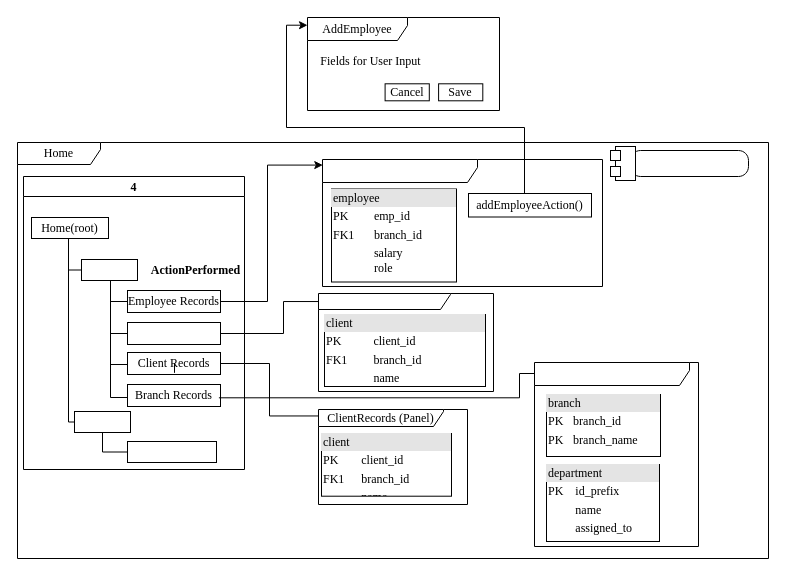
The diagram is 786 pixels wide and 576 high, and some of its shapes have lost their labels. The shapes that lost their labels are listed below. From the top down, each one's box as (x1, y1, x2, y2) in pixels, then its label:
(610, 150, 748, 176): Search
(322, 158, 602, 286): EmployeeRecords (Panel)
(80, 258, 138, 280): Records
(126, 322, 220, 344): Supplier Records
(318, 292, 494, 392): SupplierRecords (Panel)
(74, 410, 130, 432): Settings
(126, 440, 216, 462): Account Settings
(534, 362, 698, 546): BranchRecords (Panel)
